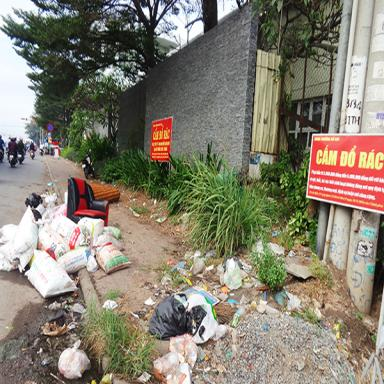plasticbag: (153, 284, 226, 344), (25, 238, 82, 298), (154, 333, 197, 382), (51, 339, 94, 383), (221, 252, 246, 291)
